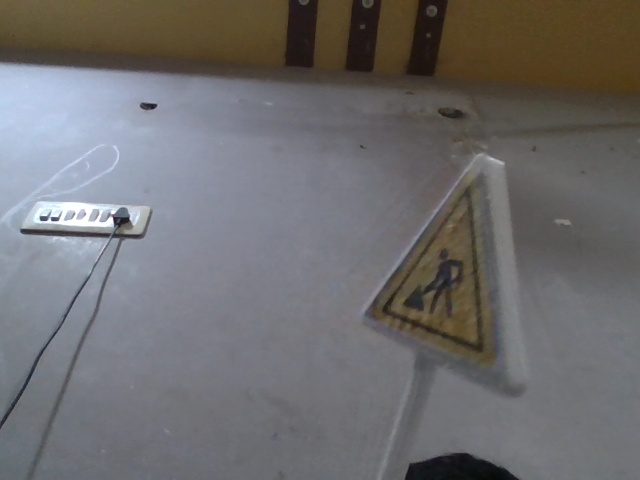workinprogress: (358, 171, 537, 393)
